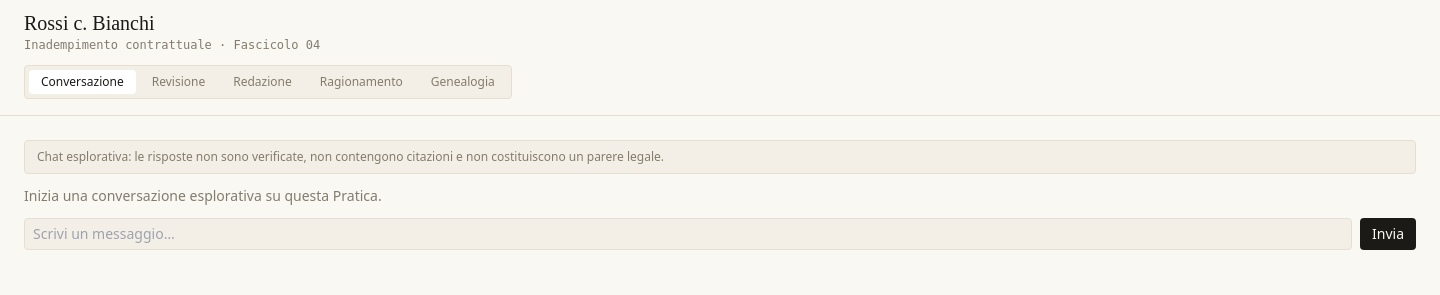
fallback (no real Pratica) keeps the mock surfaces unchanged
Step 1. Click the button "Ragionamento" → (361, 82), box [308,70,415,94]
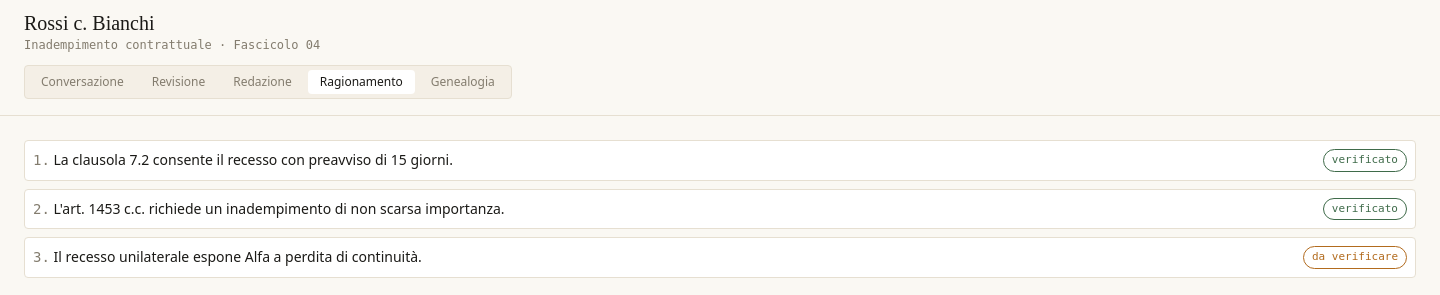
Check: the text "La clausola 7.2 consente il recesso" is shown, box [54,150,453,169]
